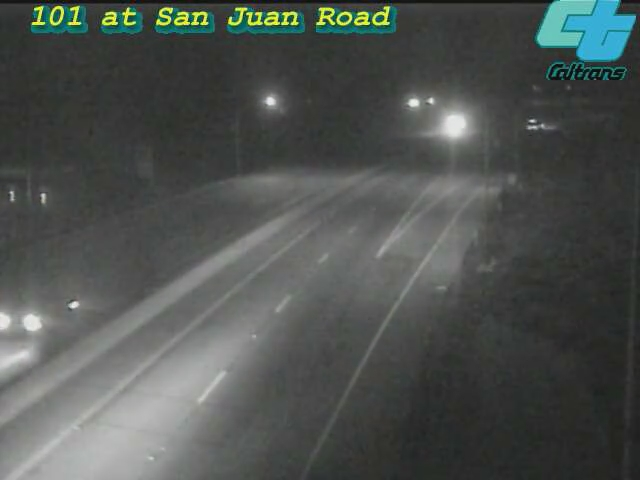vehicle: (1, 271, 75, 351), (426, 100, 476, 150), (511, 99, 561, 149)
